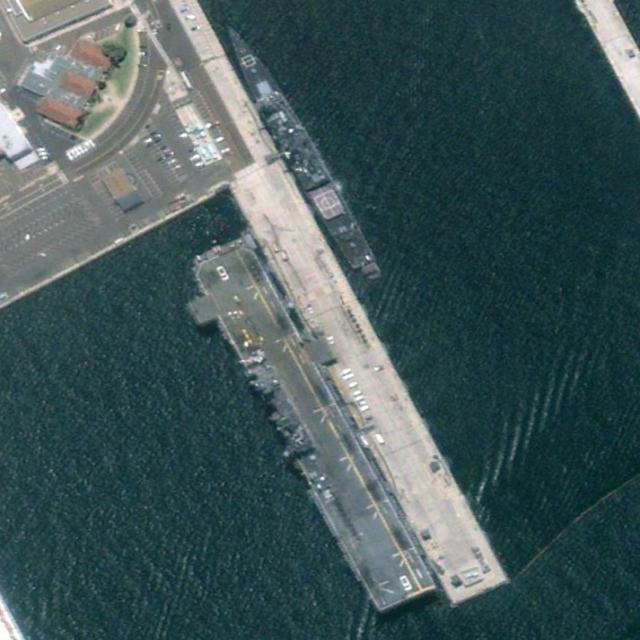Cruiser: (212, 18, 381, 274)
Landing: (165, 225, 454, 623)
